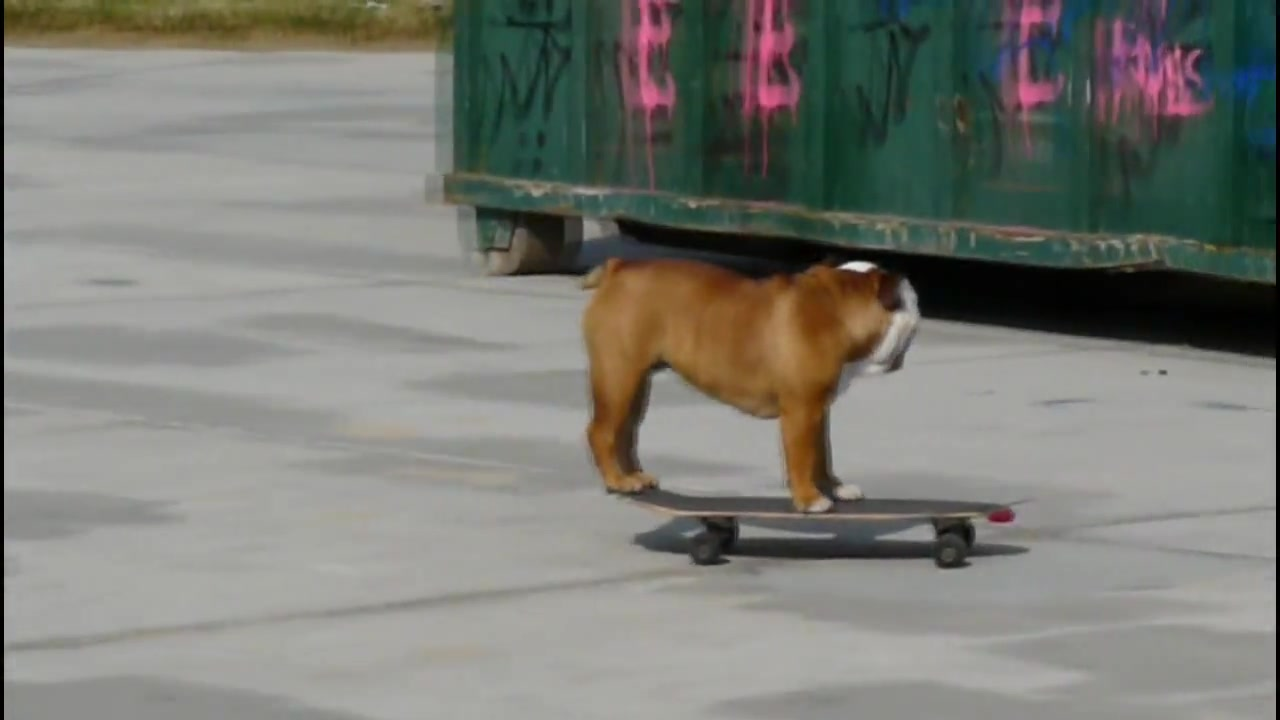dog: (582, 253, 928, 516)
